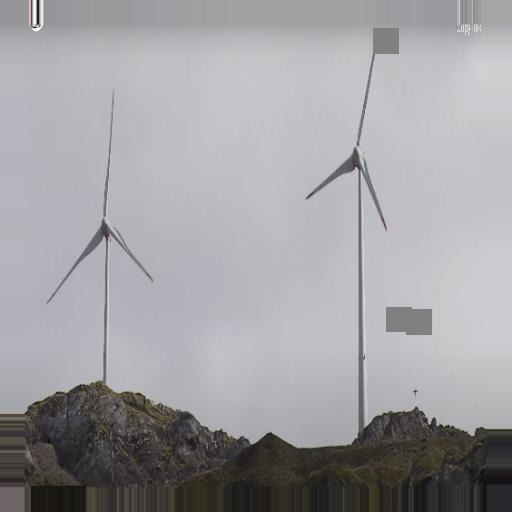wind turbine: (45, 88, 158, 394), (304, 44, 388, 446)
